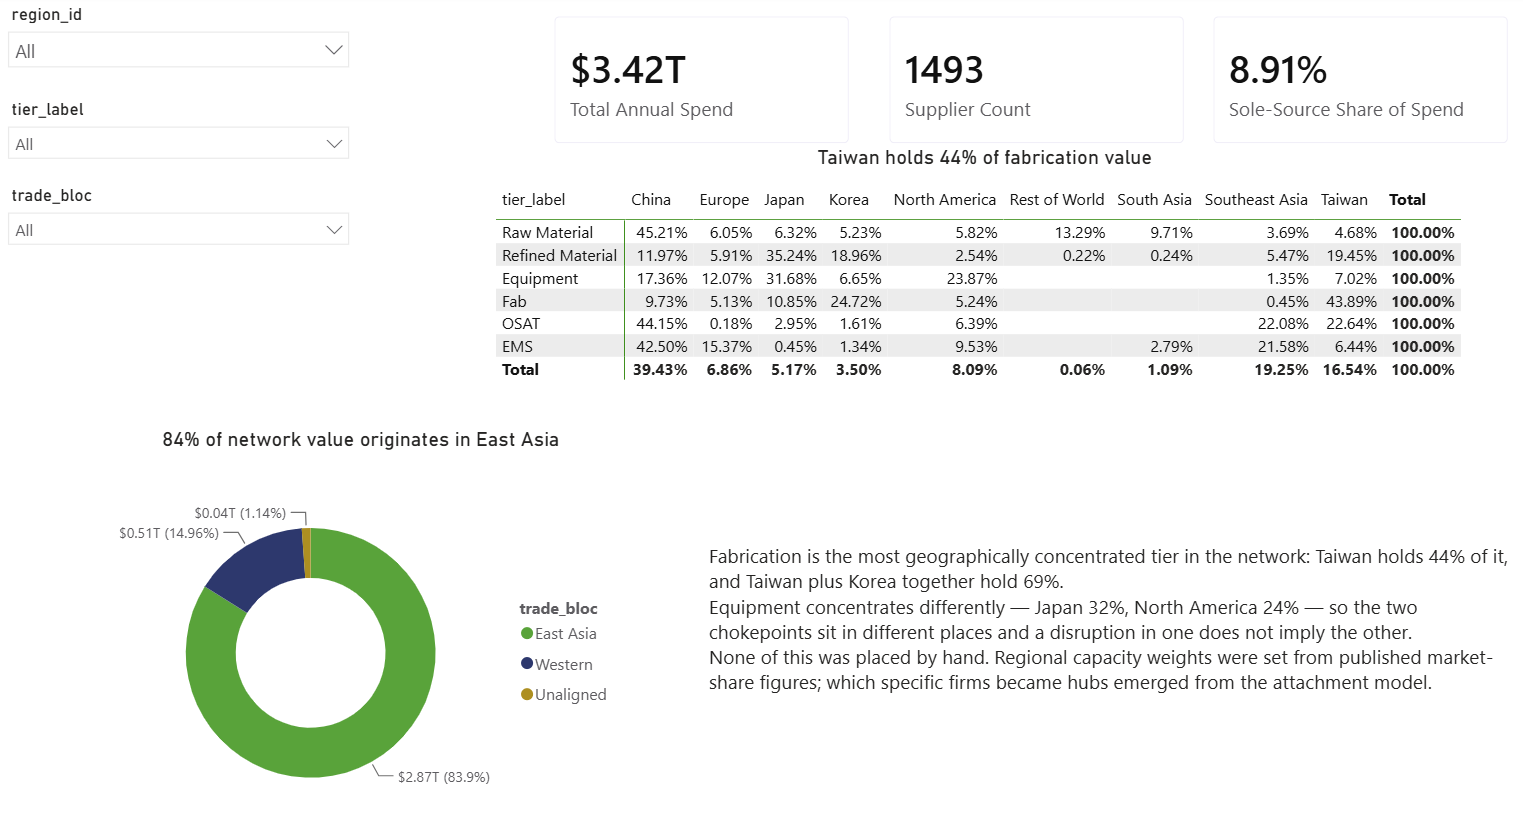

Layout of this report page (visuals, bound fields, positions):
{"tool":"powerbi","page":{"name":"Geographic Concentration","canvas":[1280,720],"ordinal":3},"visuals":[{"type":"cardVisual","fields":{"Data":["_Measures.Total Annual Spend"]},"box":[449.4,0,280.1,140.1],"z":0},{"type":"cardVisual","fields":{"Data":["_Measures.Supplier Count"]},"box":[729.5,0,280.1,140.1],"z":1},{"type":"cardVisual","fields":{"Data":["_Measures.Sole-Source Share of Spend"]},"box":[999.9,0,280.1,140.1],"z":2},{"type":"pivotTable","title":"Taiwan holds 44% of fabrication value","fields":{"Rows":["dim_node.tier_label"],"Columns":["dim_node.region_id"],"Values":["_Measures.Total Annual Spend"]},"box":[412.4,124.5,826.7,248],"z":3},{"type":"donutChart","title":"84% of network value originates in East Asia","fields":{"Category":["dim_node.trade_bloc"],"Y":["_Measures.Total Annual Spend"]},"box":[83.6,359.9,442.6,347.2],"z":4},{"type":"slicer","fields":{"Values":["dim_node.region_id"]},"box":[0,1.9,305.4,78.8],"z":5},{"type":"slicer","fields":{"Values":["dim_node.tier_label"]},"box":[0,80.7,305.4,77.8],"z":6},{"type":"slicer","fields":{"Values":["dim_node.trade_bloc"]},"box":[0,152.7,305.4,77.8],"z":7},{"type":"textbox","box":[590.4,452.3,689.6,187.7],"z":8}]}

Visuals, with their boxes in screenshot pixels (x1, y1, x2, y2), scaled from the page's 1280x720 canvas onto the 1523x839 screenshot:
cardVisual - _Measures.Total Annual Spend: 535/0/868/163
cardVisual - _Measures.Supplier Count: 868/0/1201/163
cardVisual - _Measures.Sole-Source Share of Spend: 1190/0/1522/163
"Taiwan holds 44% of fabrication value" pivotTable: 491/145/1474/434
"84% of network value originates in East Asia" donutChart: 99/419/626/824
slicer - dim_node.region_id: 0/2/363/94
slicer - dim_node.tier_label: 0/94/363/185
slicer - dim_node.trade_bloc: 0/178/363/269
textbox: 702/527/1522/746
